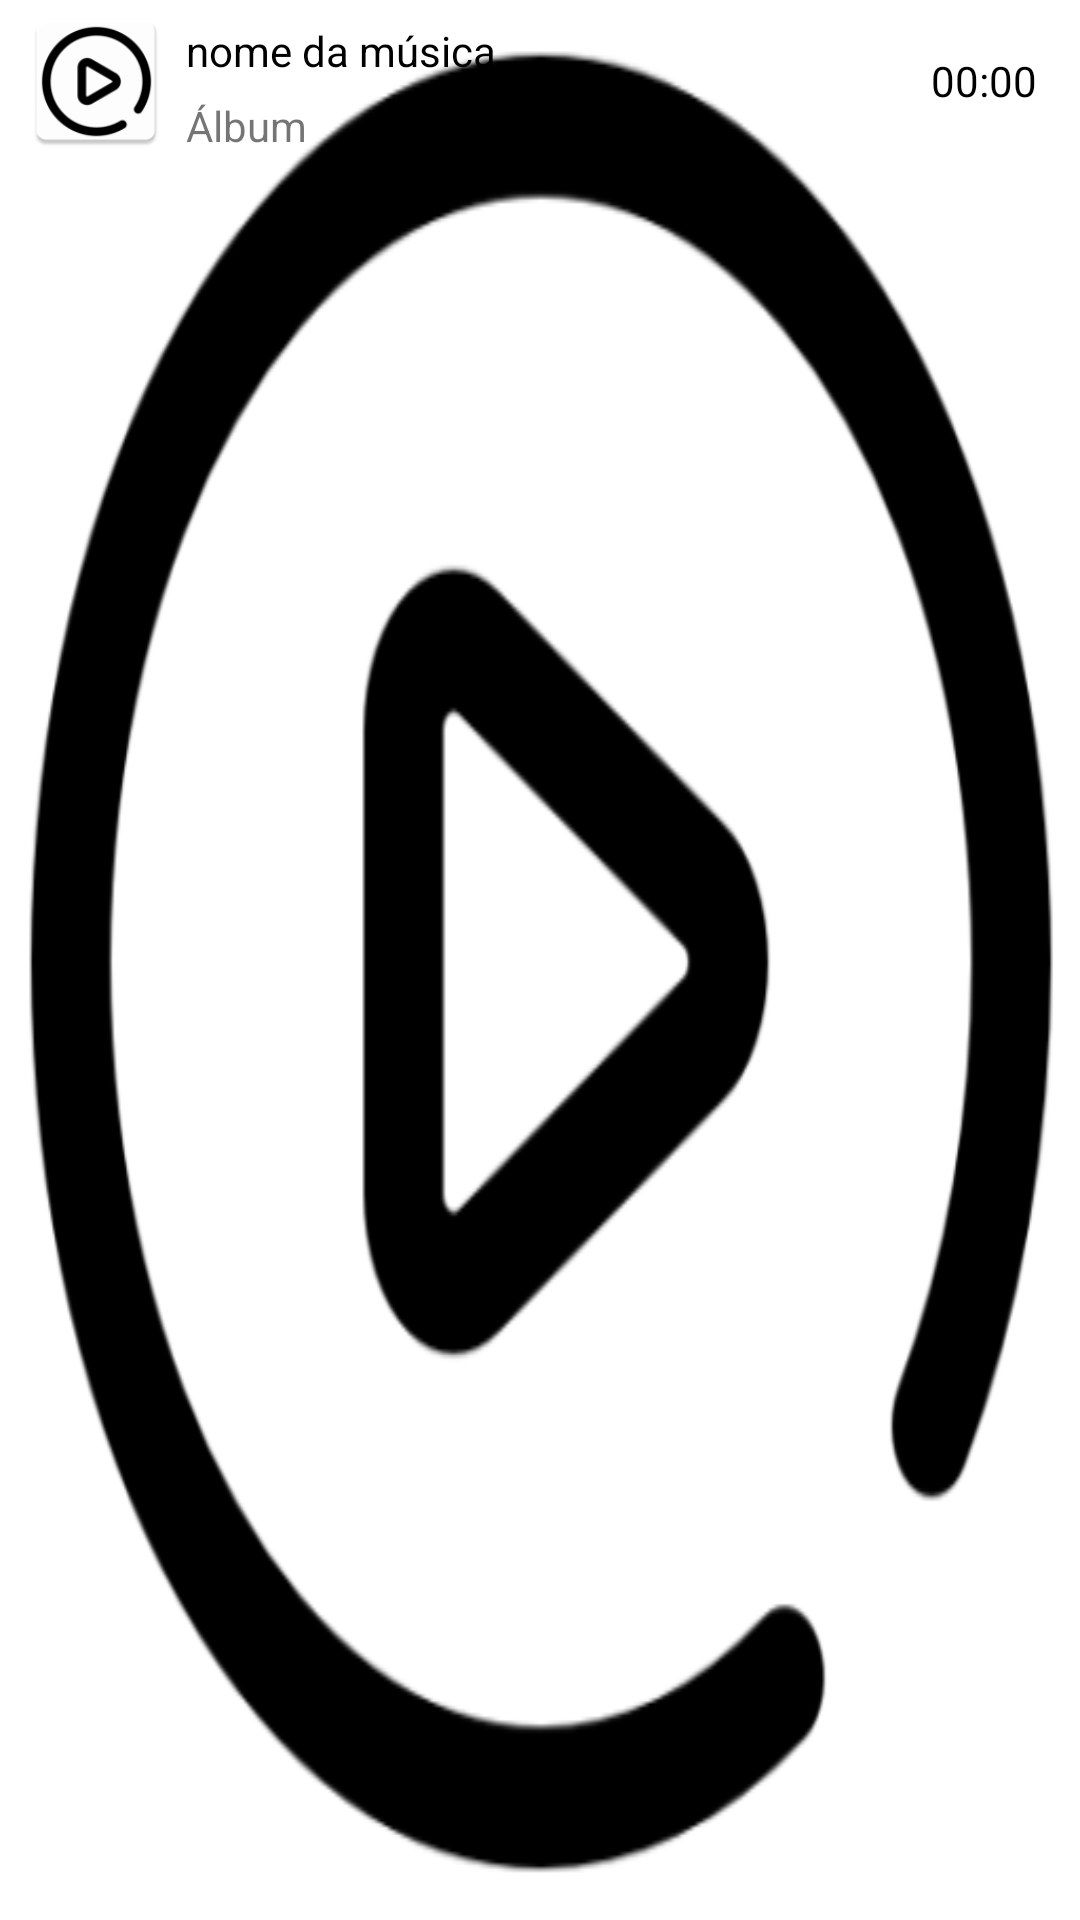

Screen size 1080w x 1920h. Icon name, then its box in pixels as (x1, y1, x2, y2):
music player: (37, 26, 156, 144)
